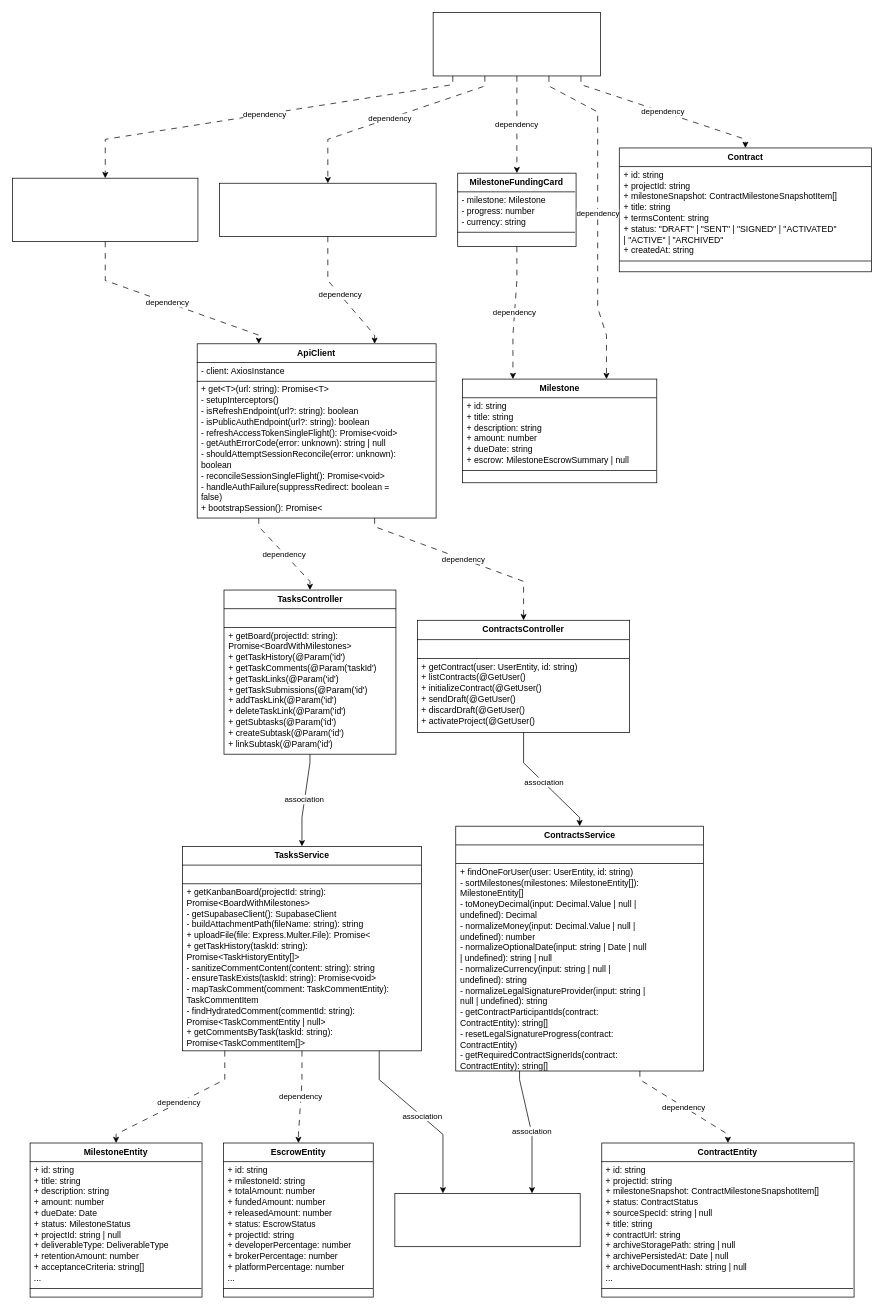
The diagram is 884 pixels wide and 1310 high, and some of its shapes have lost their labels. Each missing label, with the centre of its shape:
"contractsApi + getContract(id: string): Promise<Contract>" goes at point 327,210.
"fetchMilestones + fetchMilestones(projectId: string): Promise<Milestone[]>" goes at point 105,209.
"ProjectWorkspace - milestones: Milestone[] - contractDetail: Contract | null" goes at point 516,44.
"Repository + findOne(options: any): Promise<any>" goes at point 487,1220.
